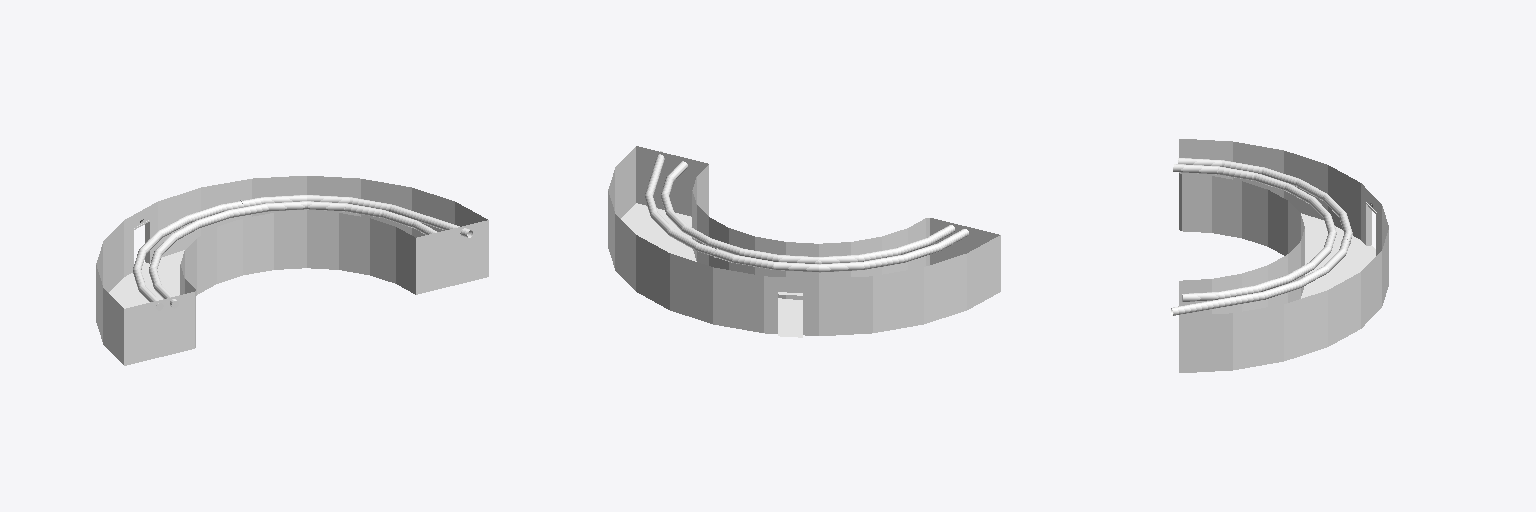
Rendered from hallway1.obj.
3 renders of one model, left to right at view 1: azimuth 30°, elevation 25°; view 2: azimuth 150°, elevation 25°; view 3: azimuth 270°, elevation 25°, orthographic.
Parts seen in each view (by area): view 1: Mesh3 Model; view 2: Mesh3 Model; view 3: Mesh3 Model.
Part boxes in pixels (x1,y1,x2,y2): Mesh3 Model: (96,176,488,365); Mesh3 Model: (608,146,1000,337); Mesh3 Model: (1171,139,1388,372).
Bounding box in the file's own units: 20 × 3 × 10.38.